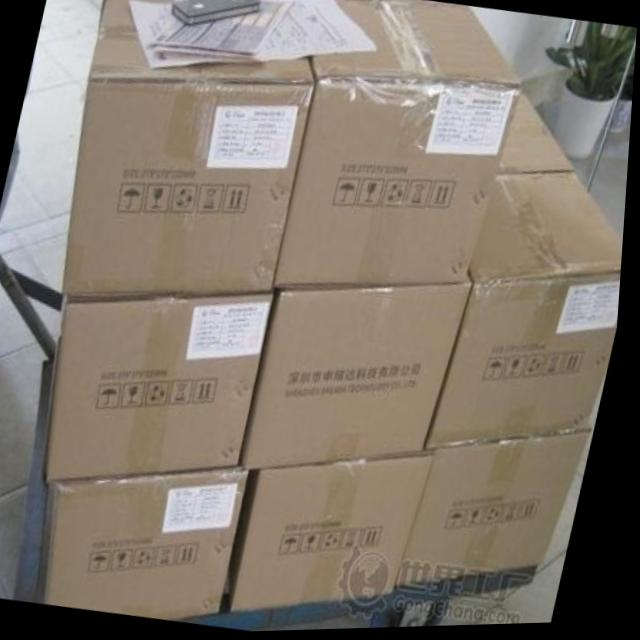box: (65, 0, 315, 298), (277, 0, 523, 291), (430, 175, 626, 453), (249, 276, 476, 470), (52, 298, 277, 485), (45, 464, 254, 622), (237, 455, 441, 613), (403, 433, 596, 595), (499, 91, 578, 178), (328, 0, 468, 12)
